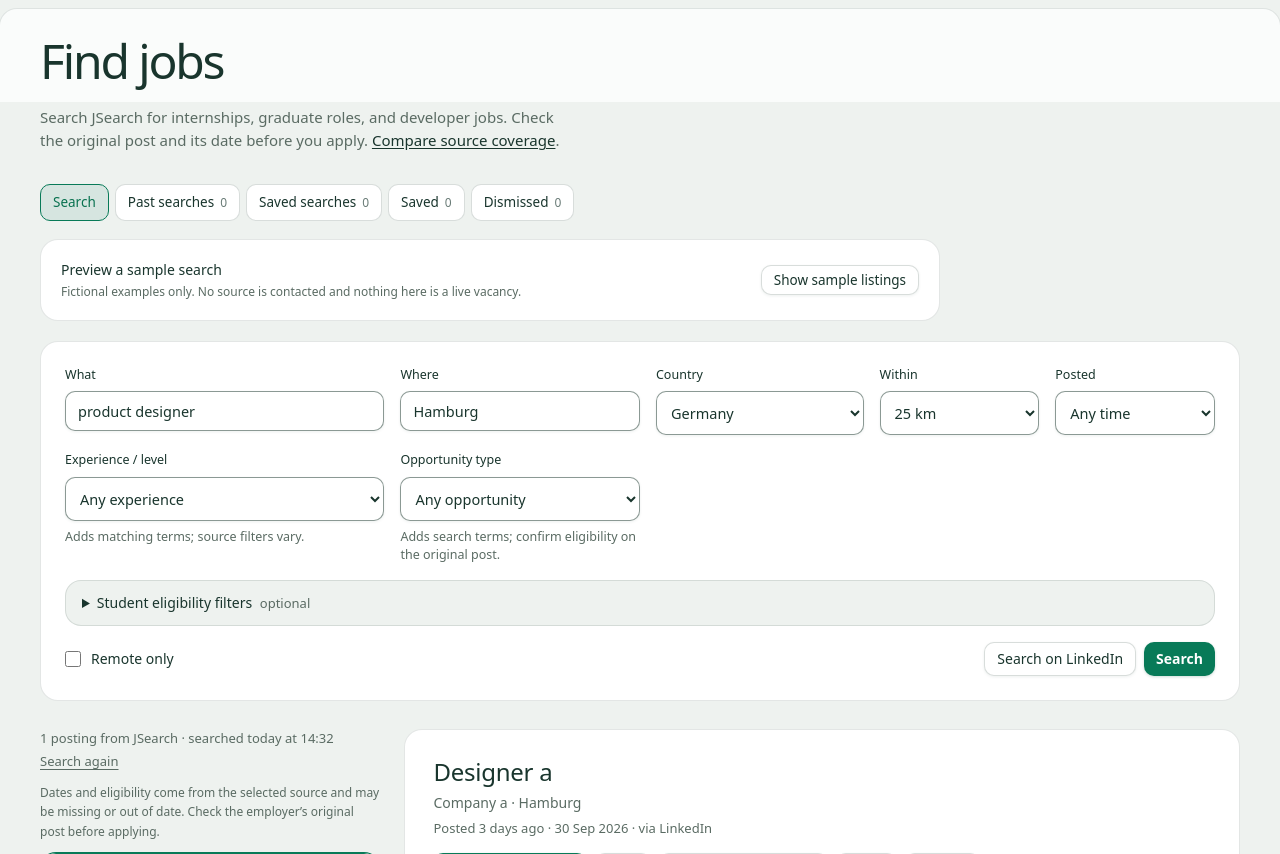
Test: problems › sends key problems to Settings, in place of the results
The image size is (1280, 854).
Click the button "Search" at (1180, 659), box [1144, 642, 1215, 676]
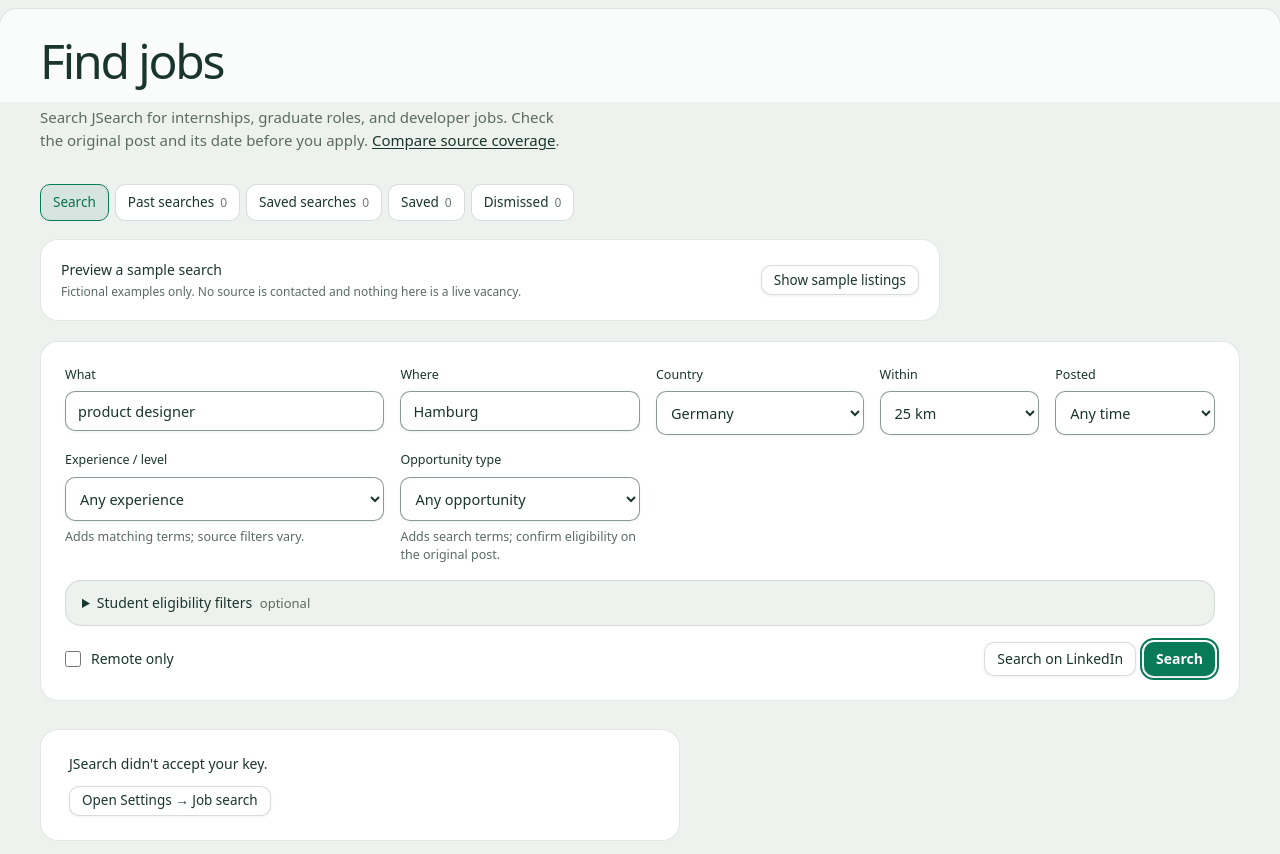
Now the message shows "JSearch didn't accept your key.", box [69, 754, 268, 773]
